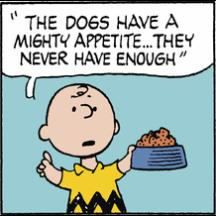charlie: (35, 83, 136, 215)
